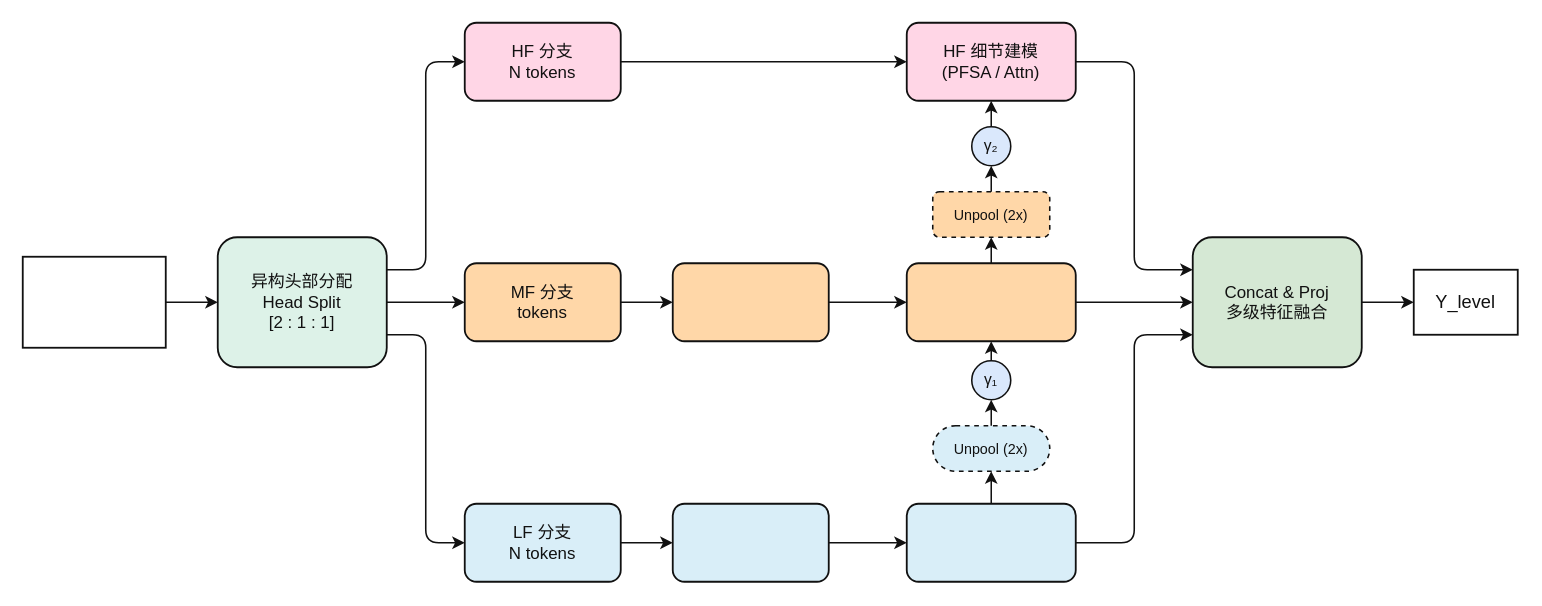
Some shapes in this 1542 by 606 pixel diagram are drawn without their labels. Here are the shapes that lost their labels. From the top down, the box of each, then its label:
(21, 255, 166, 348): DPR 排序序列 (X_sorted, scores)
(671, 262, 829, 342): Segment Pooling (2x, 加权)
(905, 262, 1076, 342): MF 边界建模 (PFSA / Attn)
(671, 502, 829, 582): Segment Pooling (4x, 加权)
(905, 502, 1076, 582): LF 结构建模 (PFSA / Attn)
